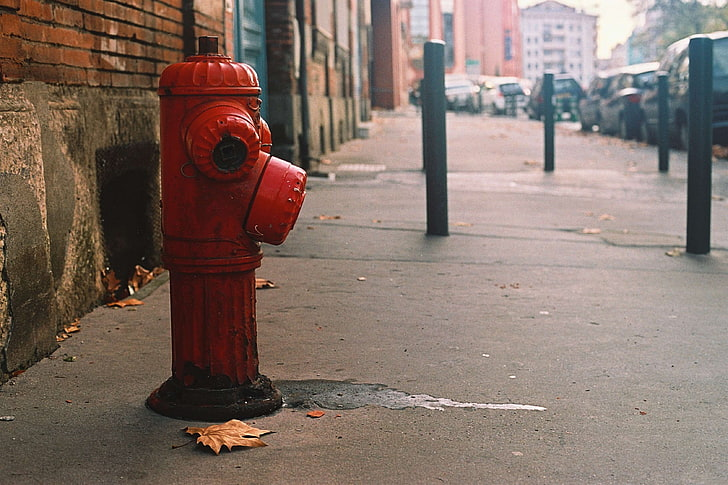bollard: (403, 37, 460, 244), (682, 29, 720, 262), (525, 69, 569, 175), (649, 67, 677, 177)
firehdyrant: (147, 30, 320, 423)
